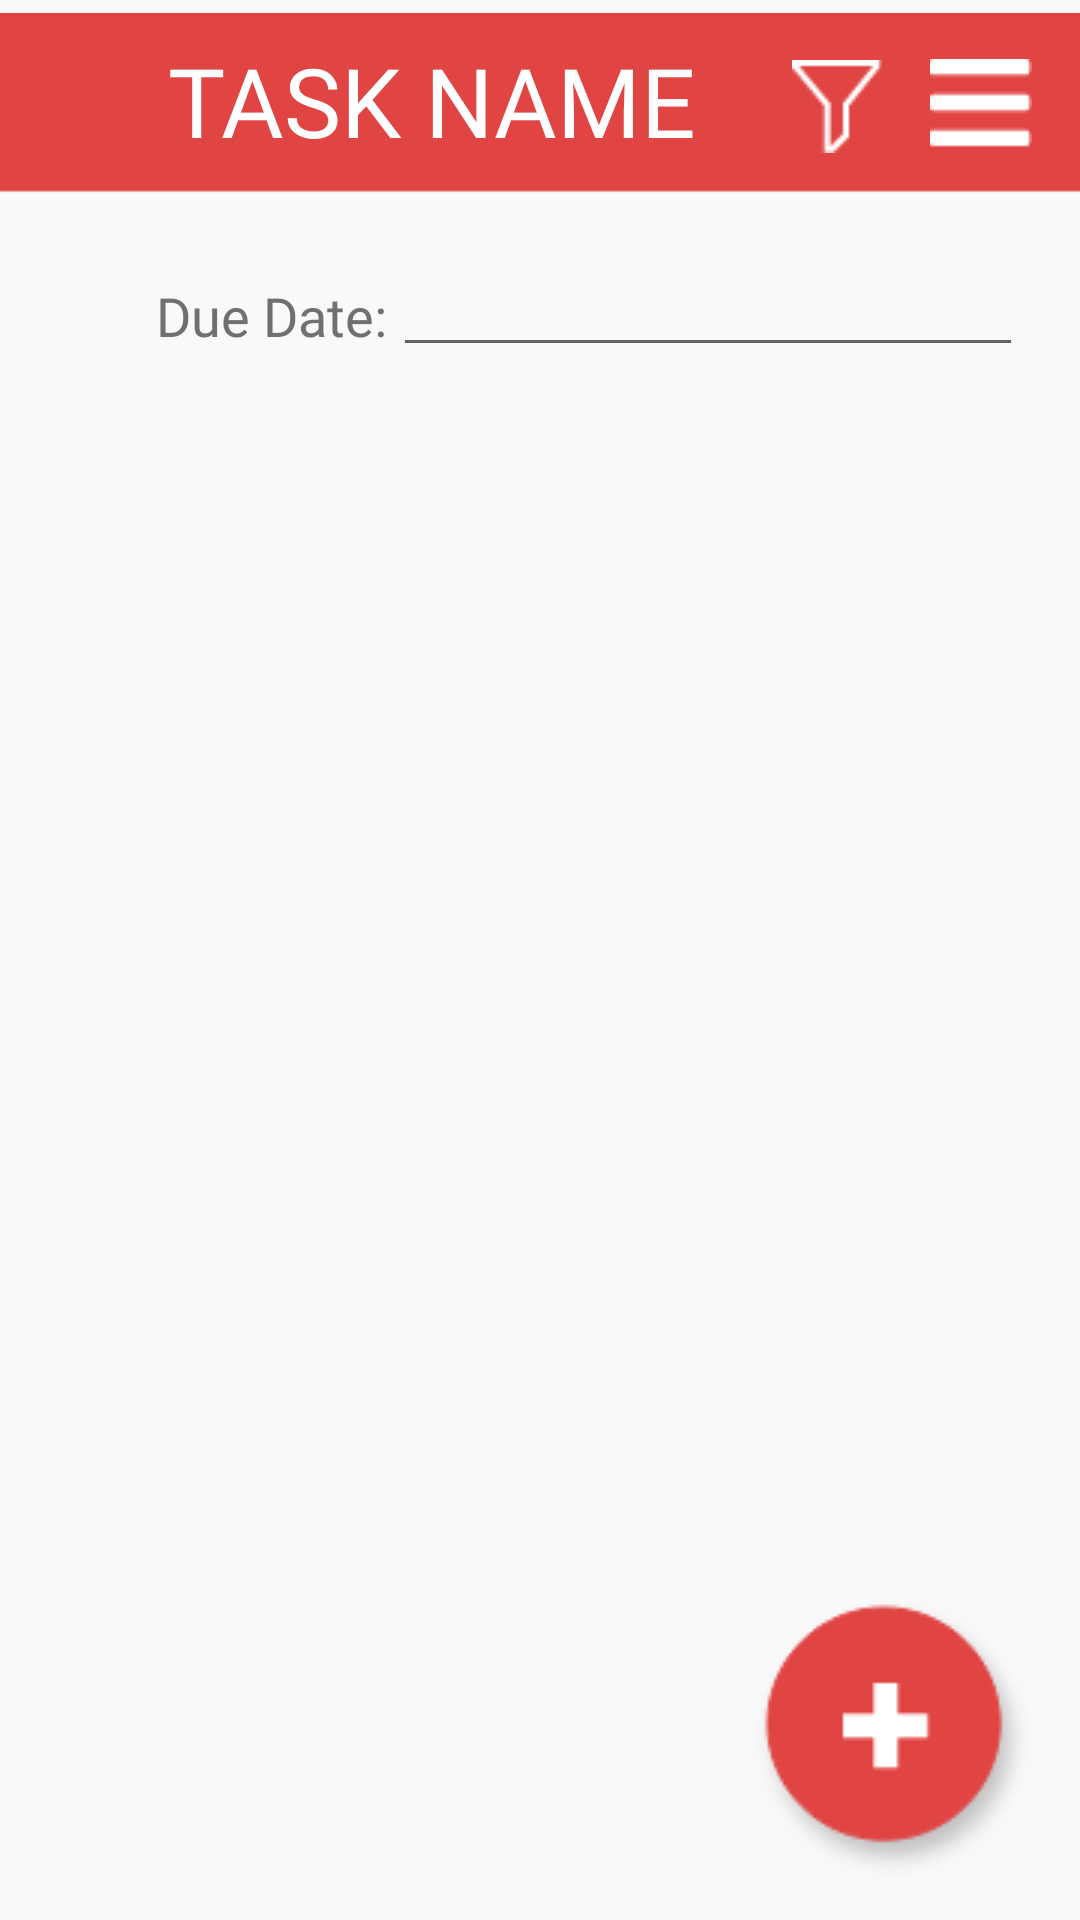

Locate icon controls on the screen. Image size 1080w x 1920h, boxes as (x1, y1, x2, y2).
create: (764, 1604, 1011, 1858)
